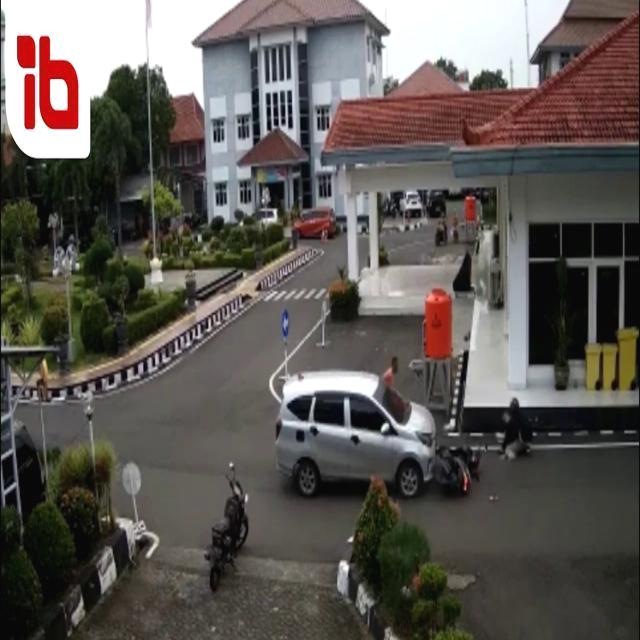accident: (272, 372, 480, 500)
non-accident: (237, 207, 339, 246), (399, 190, 448, 222)
